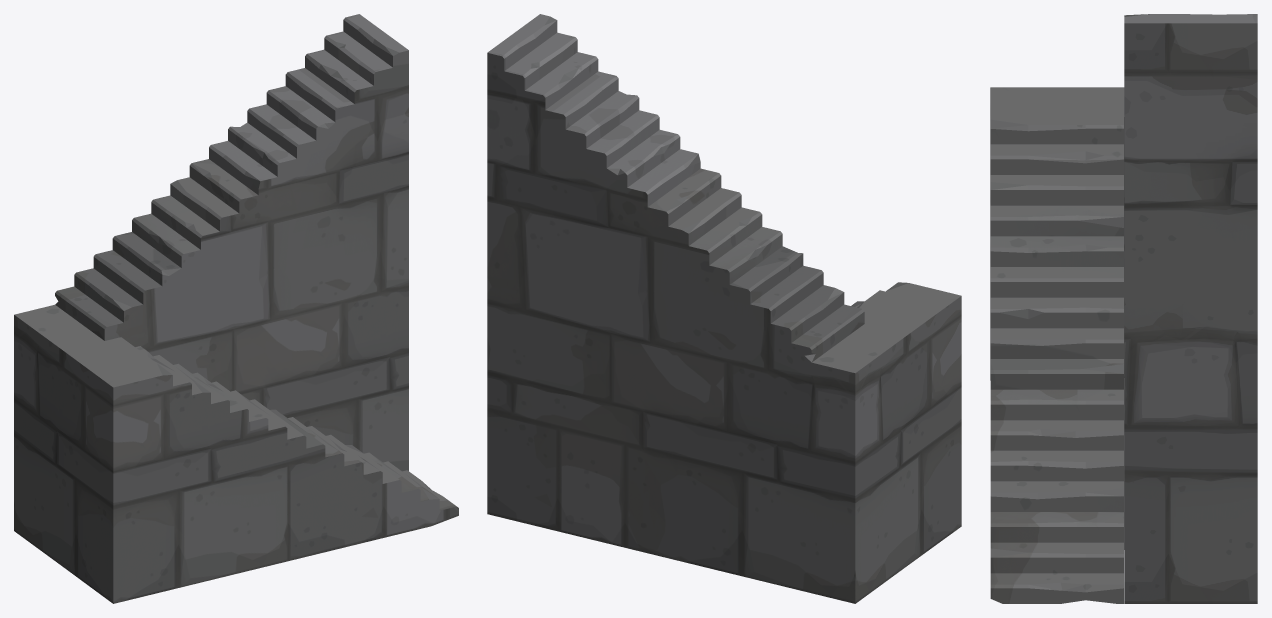
Rendered from SM_Bld_Stairs_L_03.fbx.
The picture shows the model from 3 angles, left to right: view 1: azimuth 30°, elevation 25°; view 2: azimuth 150°, elevation 25°; view 3: azimuth 270°, elevation 25°; orthographic projection. The views are drawn at different scales.
Visible parts, largest first — view 1: SM_Bld_Stairs_L_03; view 2: SM_Bld_Stairs_L_03; view 3: SM_Bld_Stairs_L_03.
Boxes of the visible parts, x1,y1,x2,y2 form: SM_Bld_Stairs_L_03: (14,14,458,603); SM_Bld_Stairs_L_03: (487,14,961,603); SM_Bld_Stairs_L_03: (990,14,1257,603).
Bounding box in the file's own units: 501 × 600 × 250.
1 material, 1 textured.
